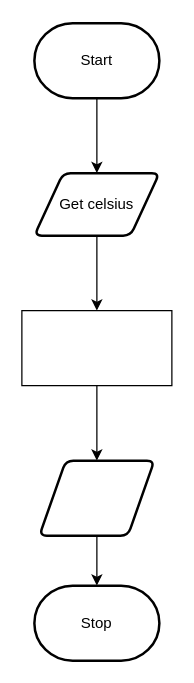
Image size: 194x683. Some labels were removed from this diagram. Here are the shapes that lost their labels. From the top down, the box of each, then its label:
(21, 309, 172, 386): fahrenheit = (celsius * 1.8) + 32
(38, 459, 155, 536): print"{0} °C is equal to {1} °C. ".format(celsius, fahrenheit)
